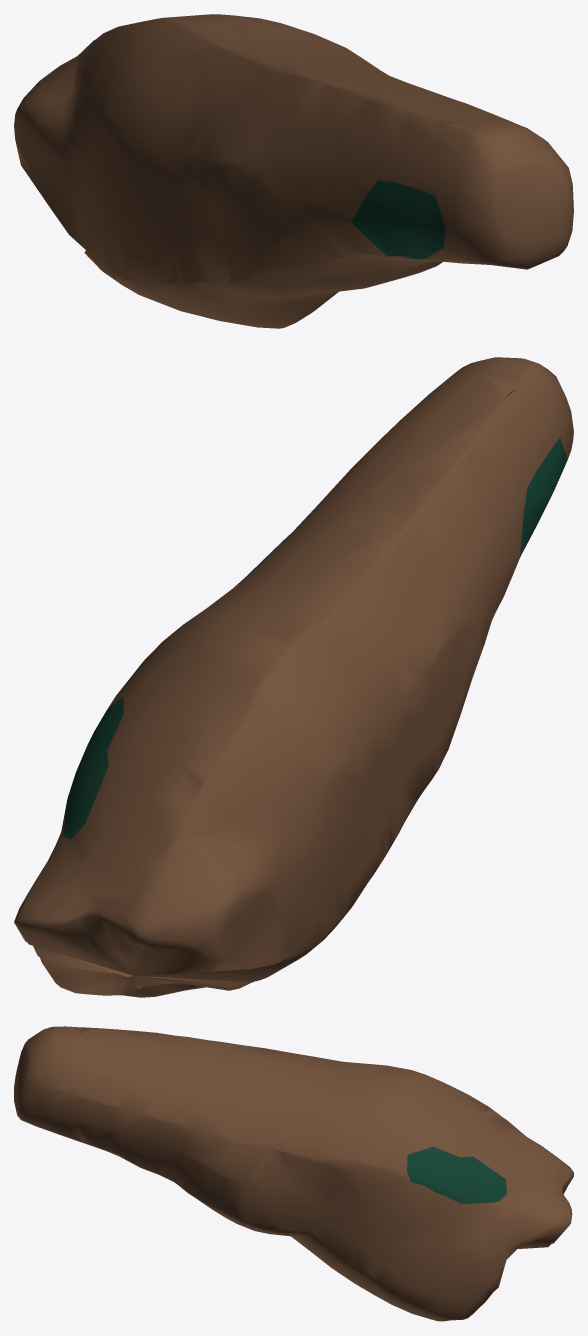
File: rockyBrazo.obj
3 renders of one model, top to bottom at view 1: azimuth 30°, elevation 25°; view 2: azimuth 150°, elevation 25°; view 3: azimuth 270°, elevation 25°, orthographic. The views are drawn at different scales.
Visible parts, largest first — view 1: rockyBrazoDer_colorCafe, rockyBrazoDer_colorVerde.001; view 2: rockyBrazoDer_colorCafe, rockyBrazoDer_colorVerde.001; view 3: rockyBrazoDer_colorCafe, rockyBrazoDer_colorVerde.001.
Boxes of the visible parts, x1,y1,x2,y2 form: rockyBrazoDer_colorCafe: (14,14,573,328); rockyBrazoDer_colorVerde.001: (352,180,445,259); rockyBrazoDer_colorCafe: (14,357,573,997); rockyBrazoDer_colorVerde.001: (63,438,567,838); rockyBrazoDer_colorCafe: (14,1026,573,1321); rockyBrazoDer_colorVerde.001: (407,1146,506,1203).
Bounding box in the file's own units: 0.033 × 0.0537 × 0.1033.
